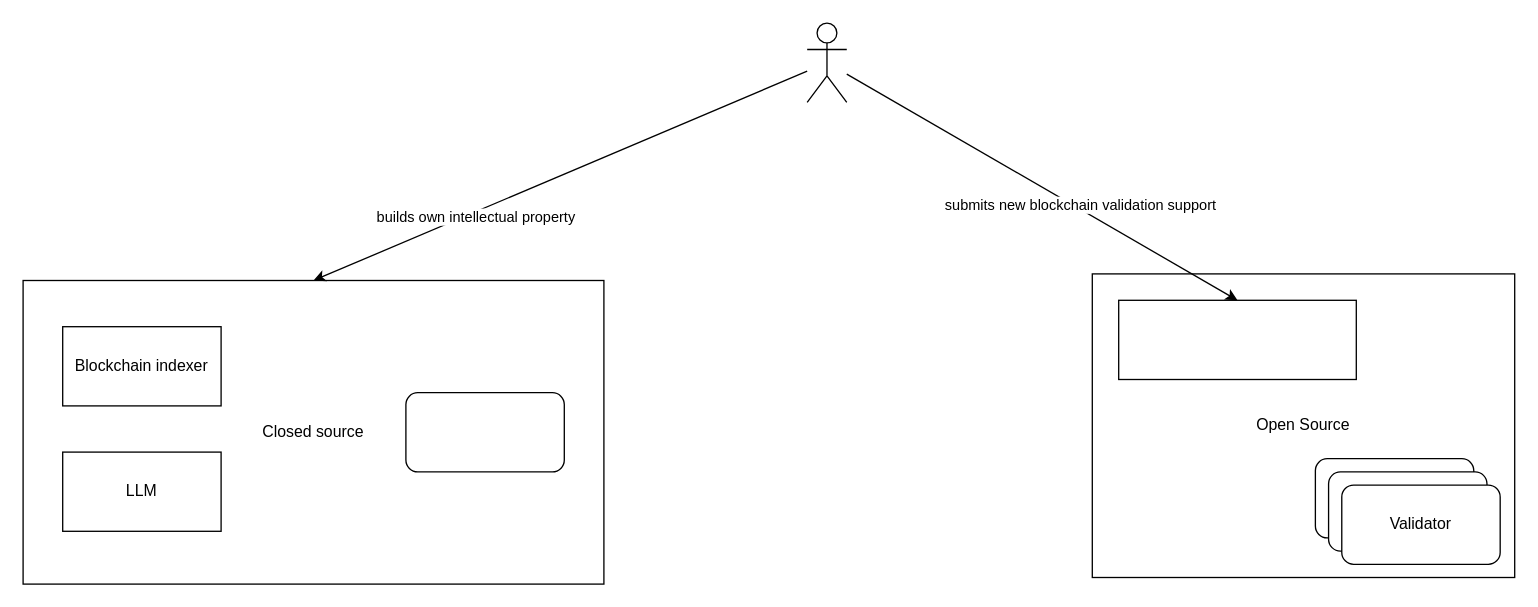
Some shapes in this 1538 by 607 pixel diagram are drawn without their labels. Here are the shapes that lost their labels. From the top down, the centre of each, then its label:
At point (826, 62): "Independent Contributor".
At point (1236, 339): "PR: validation mechanisms PR: validator network integration".
At point (484, 431): "New Blockchain Implementation Miner".
